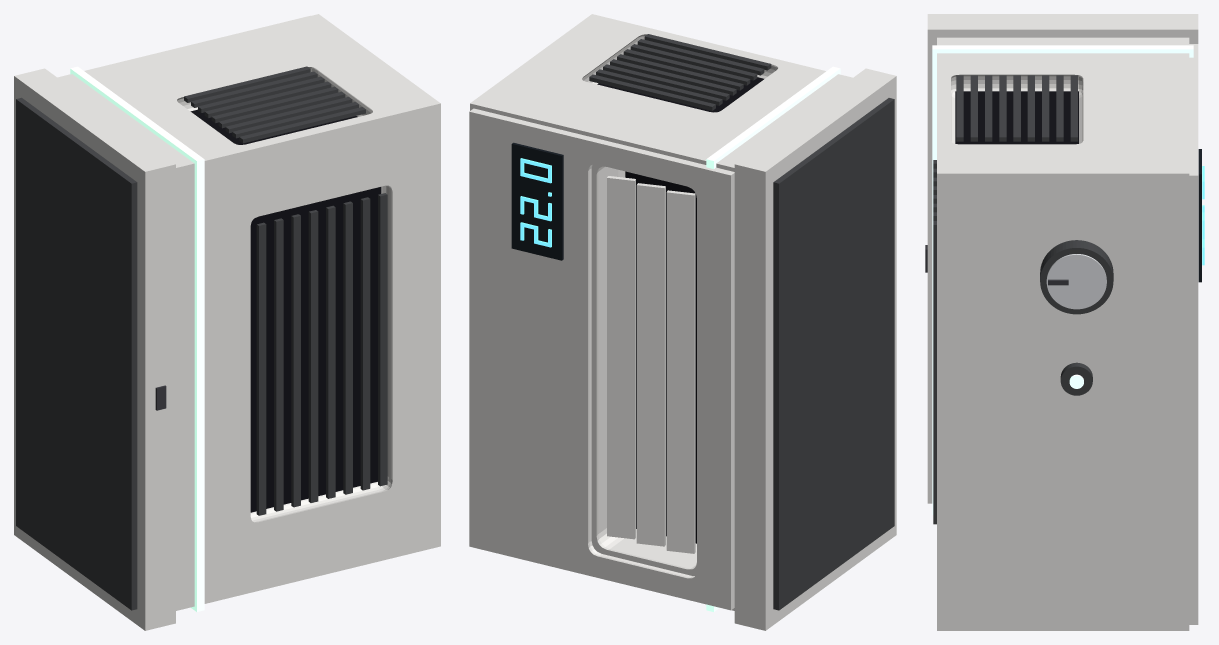
The model's file is form_a.glb.
3 renders of one model, left to right at view 1: azimuth 30°, elevation 25°; view 2: azimuth 150°, elevation 25°; view 3: azimuth 270°, elevation 25°, orthographic. The views are drawn at different scales.
Parts seen in each view (by area): view 1: Body, SkidPad, Base, IntakeGrille, IntakeCavity, HotVent_R, Band, HotVentCavity_R; view 2: FrontPanel, SkidPad, Body, Base, Louver_0, Louver_1, Louver_2, HotVent_R, DisplayGlass, OutletCavity, Band, Display (+1 smaller); view 3: Body, Base, FrontPanel, HotVent_R, Knob, HotVentCavity_R, Band, IntakeGrille, CoolKey, DisplayGlass.
Boxes of the visible parts, x1,y1,x2,y2 form: Body: (58, 14, 440, 610); SkidPad: (16, 97, 137, 610); Base: (14, 68, 175, 630); IntakeGrille: (256, 193, 387, 515); IntakeCavity: (250, 187, 381, 512); HotVent_R: (184, 66, 365, 143); Band: (70, 66, 204, 611); HotVentCavity_R: (190, 109, 357, 144); FrontPanel: (469, 108, 734, 610); SkidPad: (773, 98, 894, 610); Body: (470, 14, 852, 610); Base: (734, 68, 896, 630); Louver_0: (666, 190, 695, 553); Louver_1: (636, 183, 665, 546); Louver_2: (607, 176, 635, 539); HotVent_R: (589, 34, 771, 110); DisplayGlass: (511, 142, 563, 260); OutletCavity: (625, 171, 696, 543); Band: (706, 66, 840, 611); Display: (520, 158, 551, 247); Body: (937, 37, 1189, 630); Base: (927, 14, 1198, 503); FrontPanel: (1189, 44, 1198, 624); HotVent_R: (956, 75, 1077, 141); Knob: (1040, 240, 1113, 314); HotVentCavity_R: (955, 91, 1078, 144); Band: (932, 45, 1193, 514); IntakeGrille: (933, 160, 936, 524); CoolKey: (1060, 362, 1092, 395); DisplayGlass: (1198, 149, 1201, 282).
Size of the model in its own units: 0.1691 by 0.228 by 0.1217.
